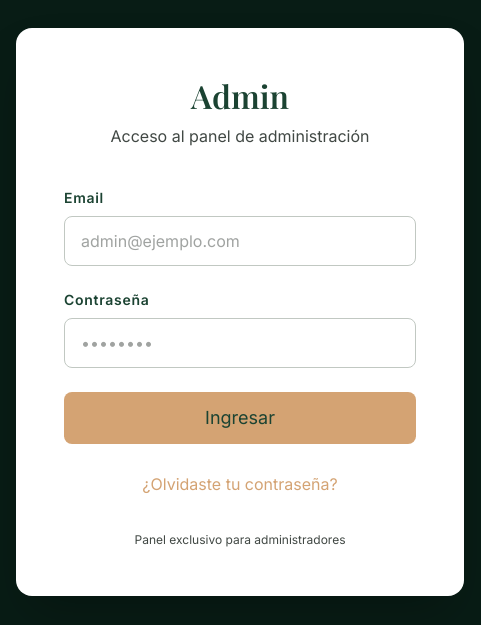
LoginPage › Password reset › shows success message after reset email is sent
This screenshot has width=481, height=625.
Type "admin@test.com" into the field labelled "Email" at {"x": 240, "y": 241}, box [64,216,416,266]
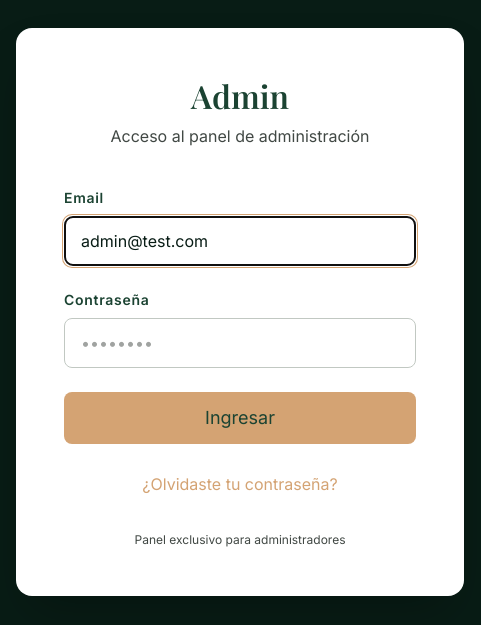
Click the button "¿Olvidaste tu contraseña?" at {"x": 240, "y": 484}, box [64,460,416,508]
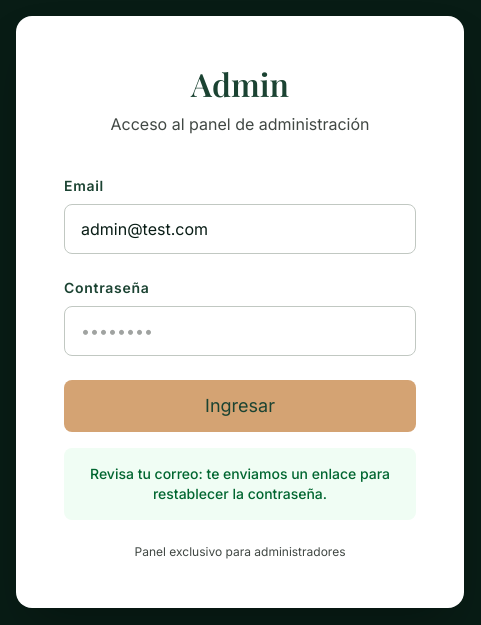
Expected: the text "Revisa tu correo" is shown, [90,465,390,502]
